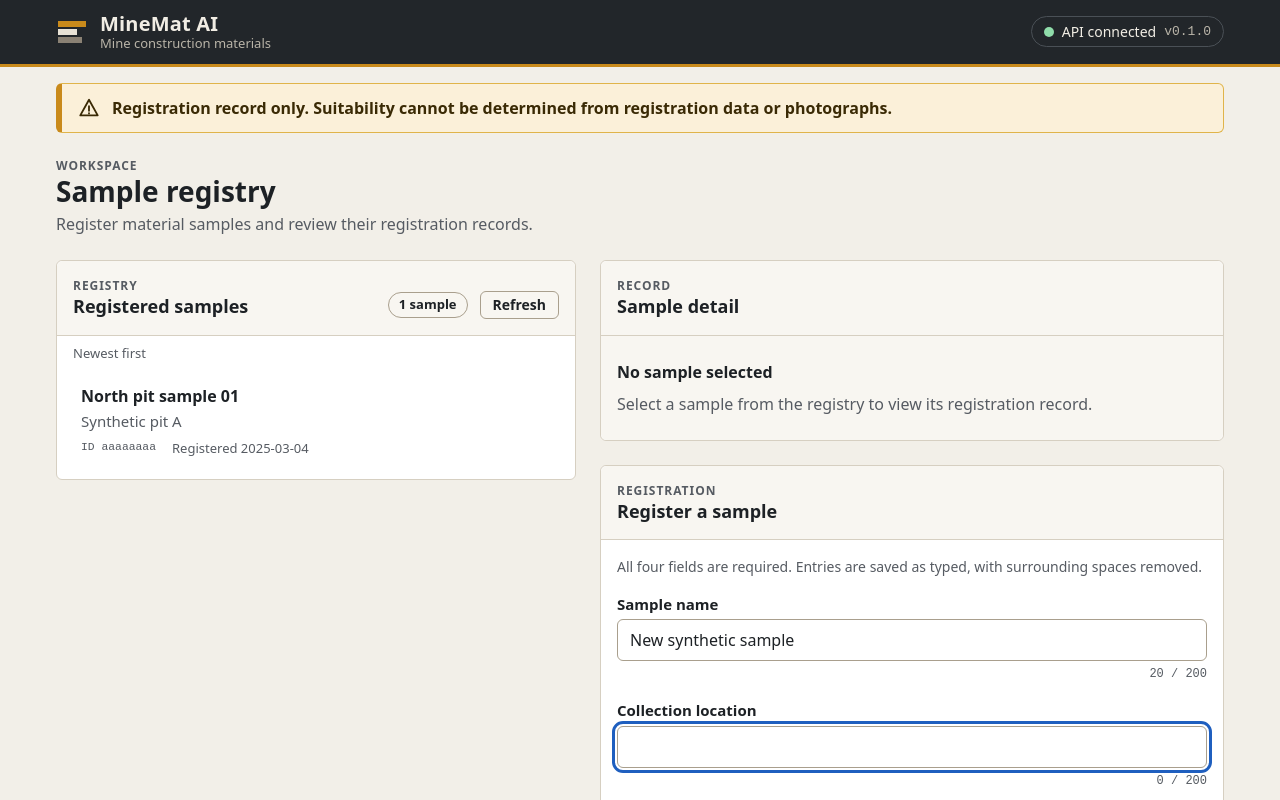
registration form › refreshes the list after registration and shows the new sample
The image size is (1280, 800).
Earlier steps of the test are not shown.
Type keys "Synthetic location C"
(page scrolled)
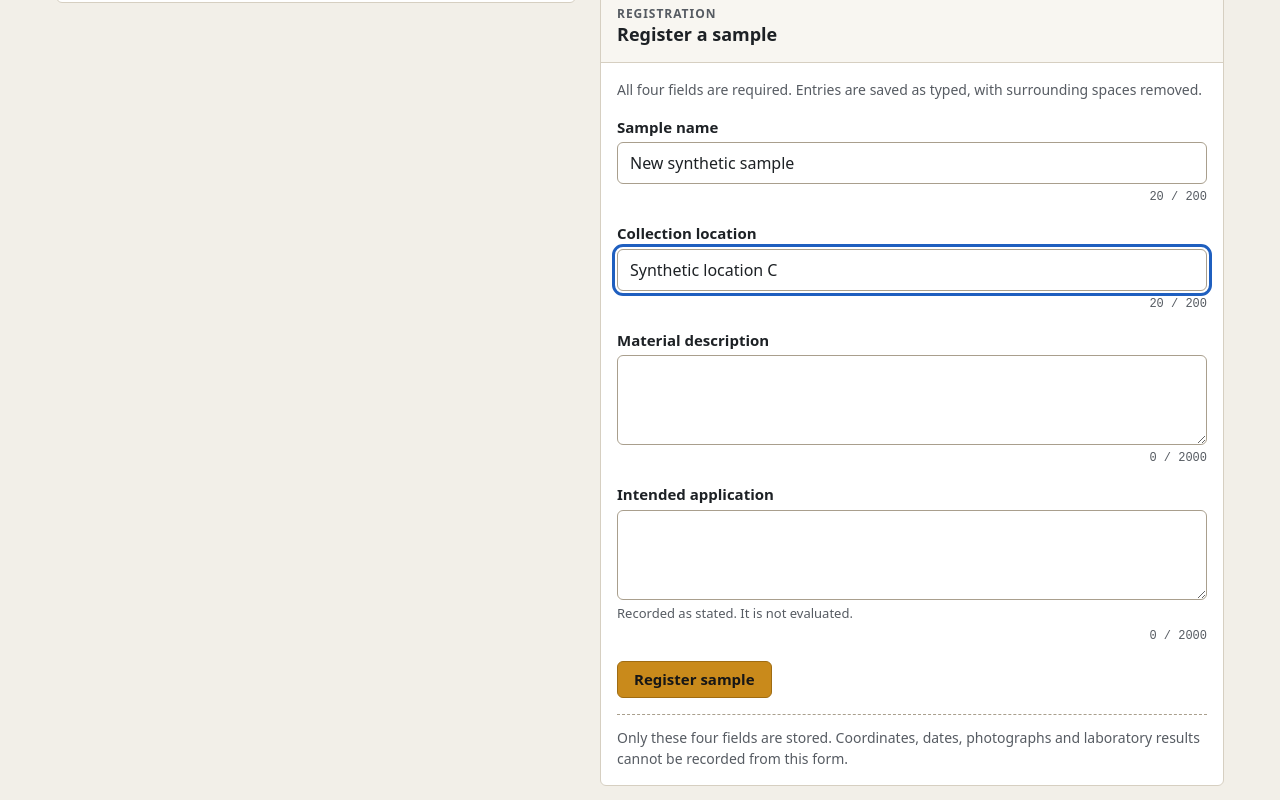
Click the text box labelled "Material description": (912, 400) [617, 356, 1207, 446]
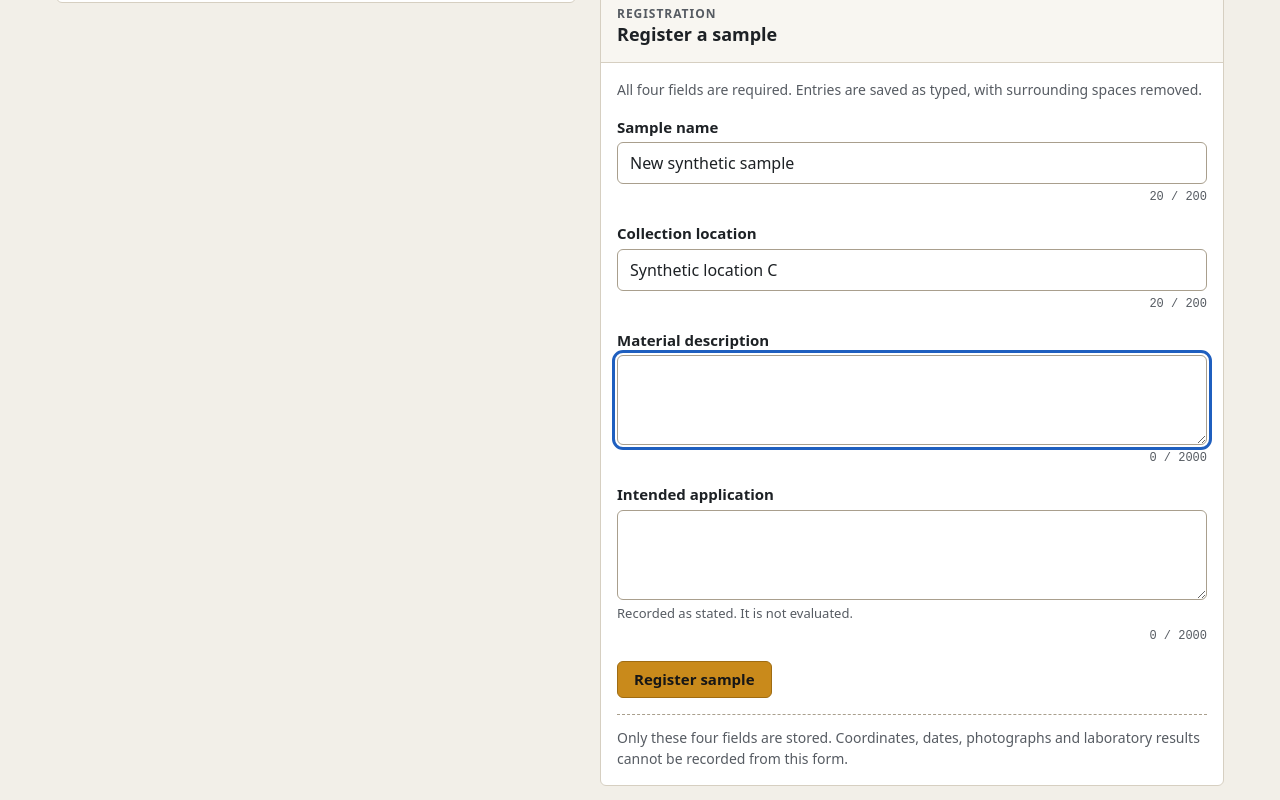
Type keys "Synthetic description"
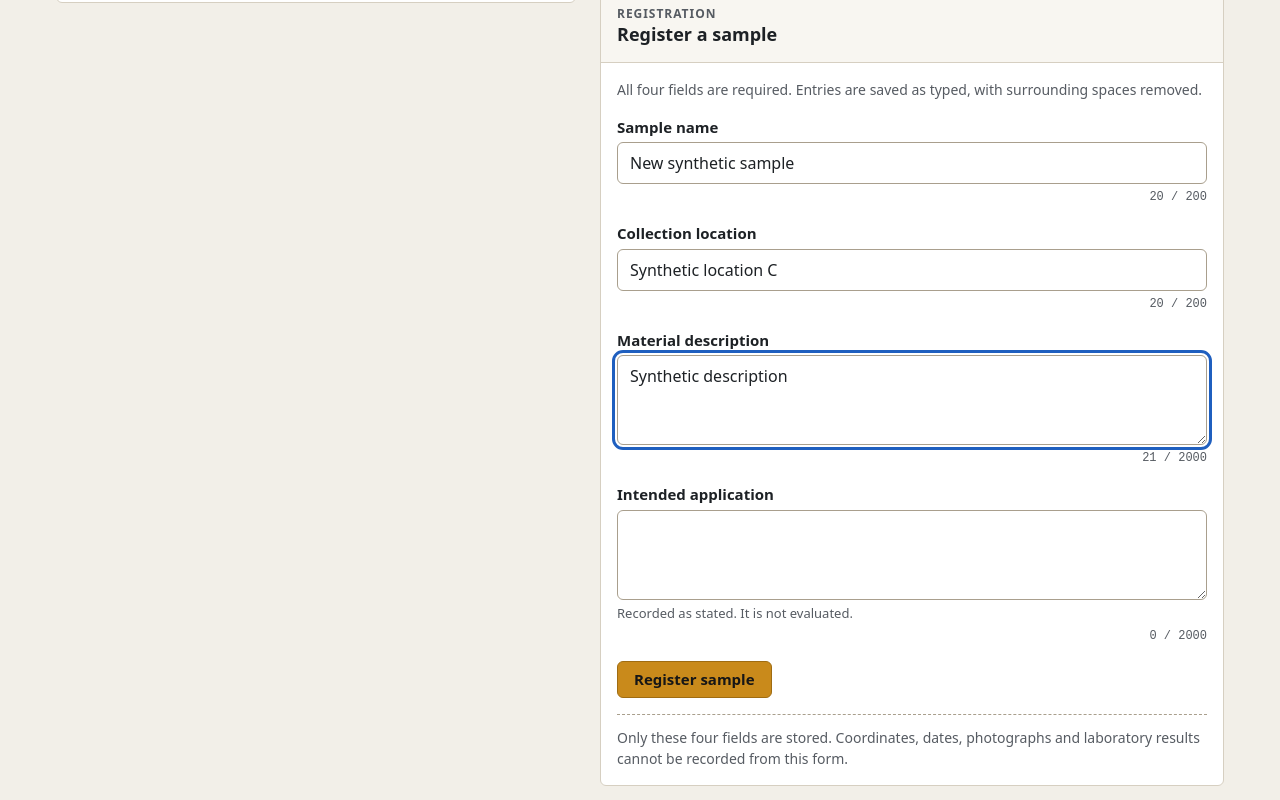
Click the text box labelled "Intended application": (912, 555) [617, 510, 1207, 600]
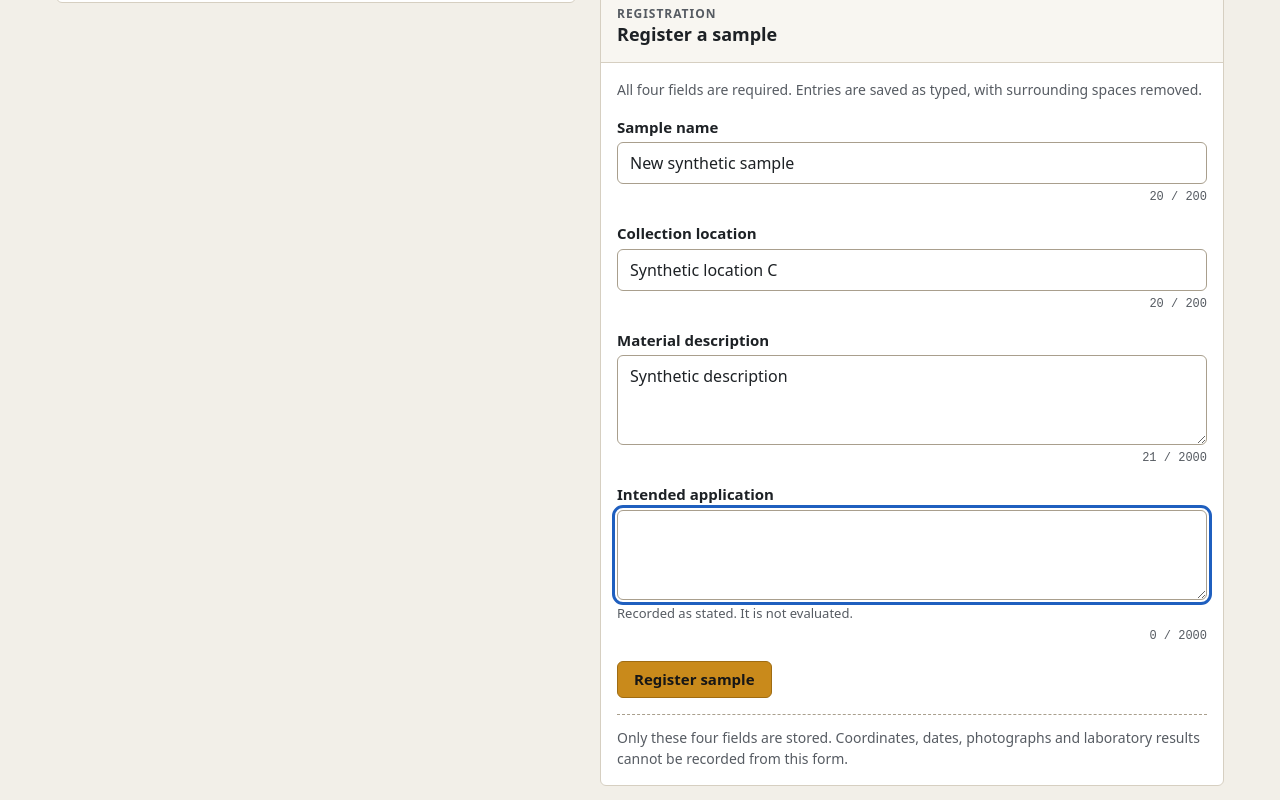
Type keys "Synthetic application"
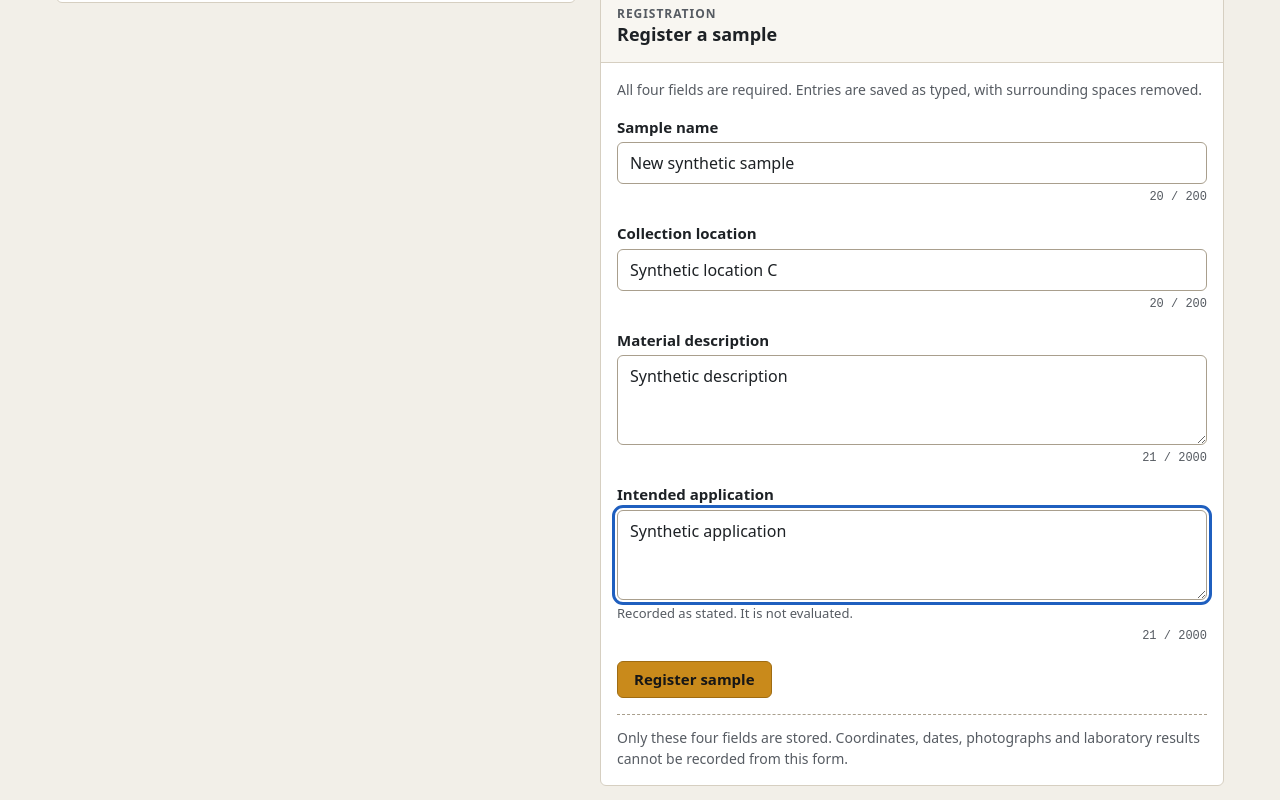
Click the button "Register sample": (694, 680) [617, 662, 772, 698]
(page scrolled)
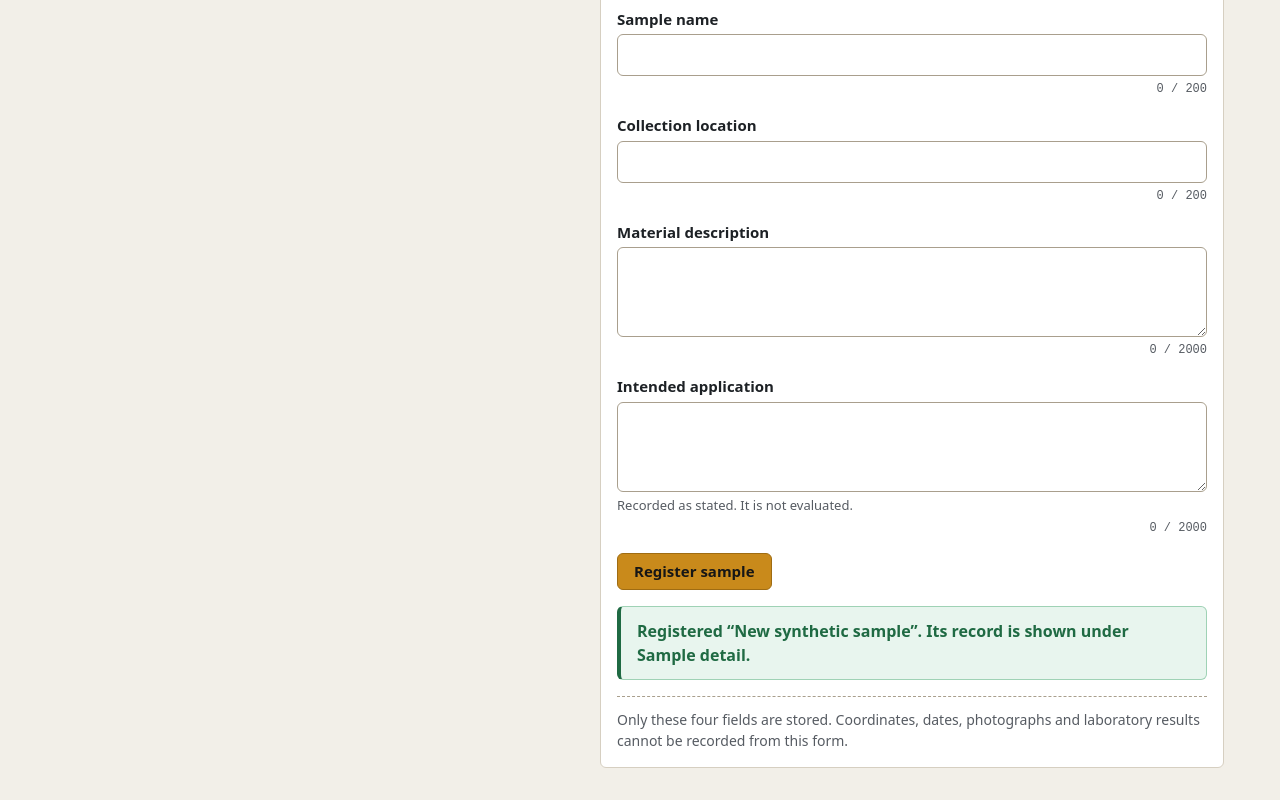
Expected: the text "Registered “New synthetic sample”. Its record is shown under Sample detail." is shown, [617, 606, 1207, 680]
Expected: the field labelled "Sample name" is empty, [617, 34, 1207, 76]
Expected: the field labelled "Collection location" is empty, [617, 141, 1207, 183]
